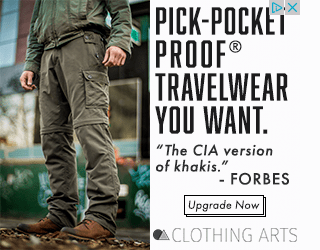fake_button: (179, 188, 276, 223)
